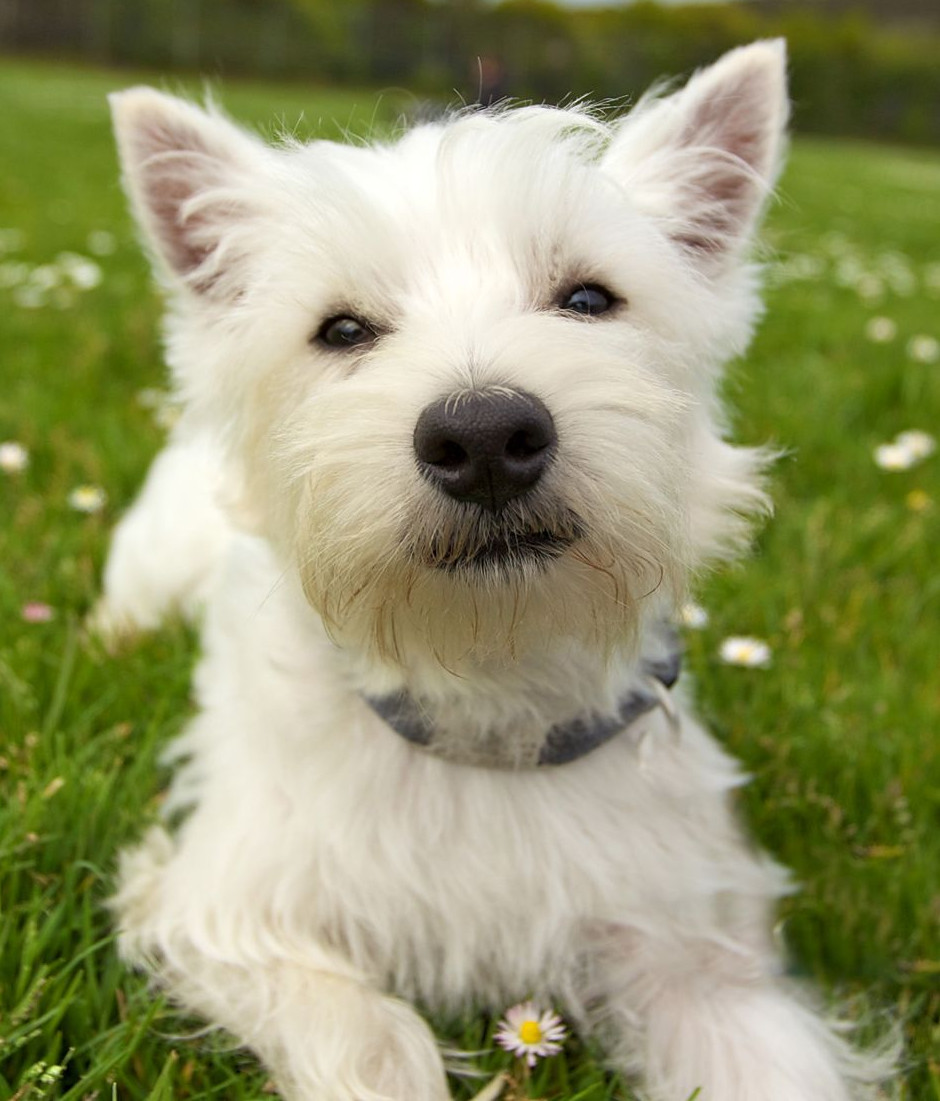dog: (0, 0, 940, 1101)
